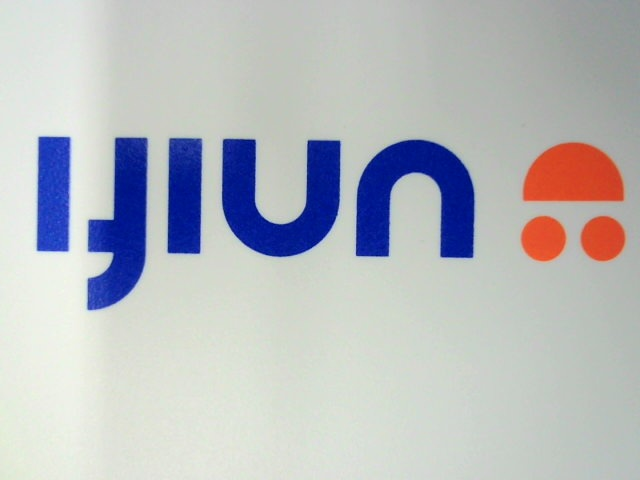BN_unifi: (15, 124, 626, 314)
